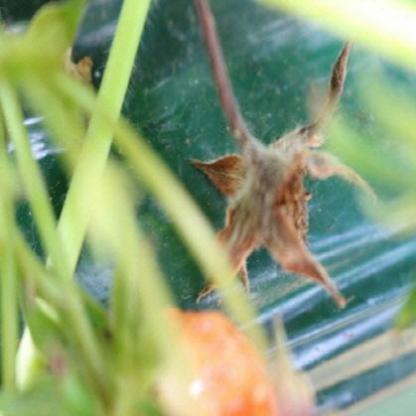Strawberry_Gray_Mold: (188, 38, 376, 310)
